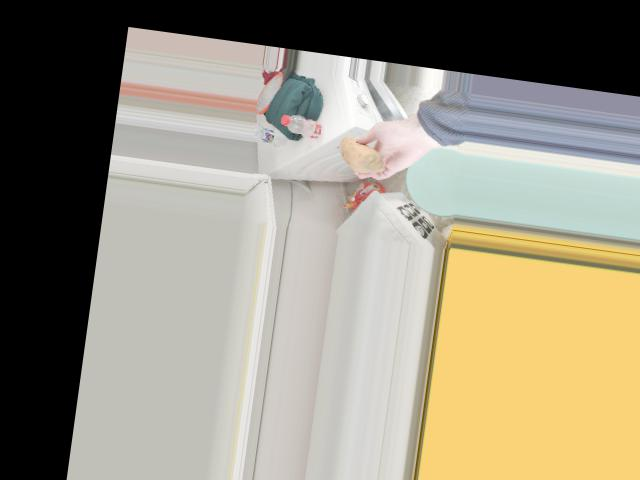sweet_potato: (337, 137, 381, 174)
